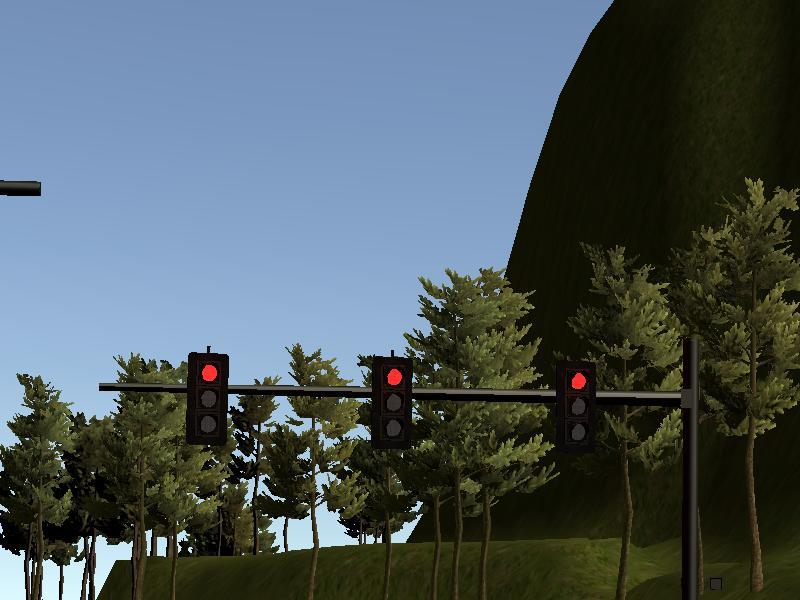Red: (190, 356, 227, 446), (375, 360, 411, 446), (559, 365, 594, 453)
